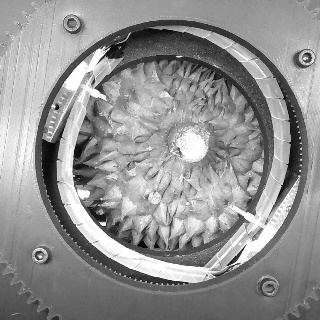base: (162, 117, 217, 169)
end: (174, 131, 207, 164)
